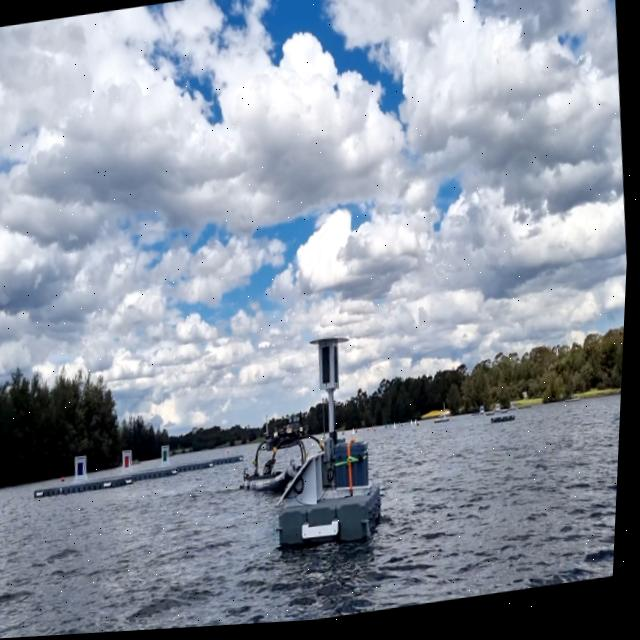led: (321, 347, 338, 393)
